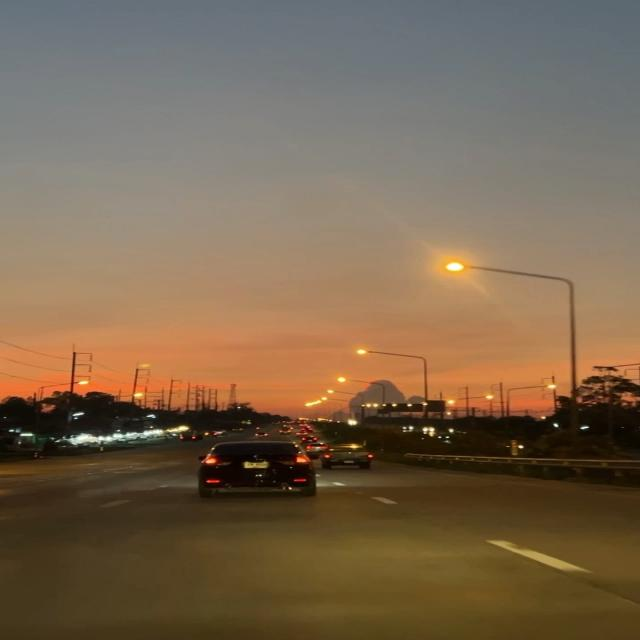Poth-hole: (80, 514, 587, 633)
